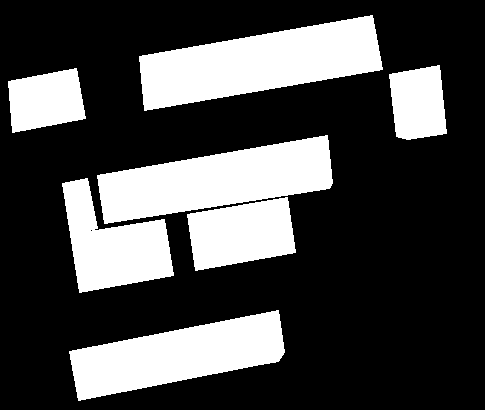parkingspot: (139, 15, 382, 110), (97, 135, 332, 223), (69, 310, 284, 400), (187, 197, 295, 270), (70, 219, 173, 292), (8, 68, 85, 132), (389, 65, 446, 139), (62, 178, 97, 234)
